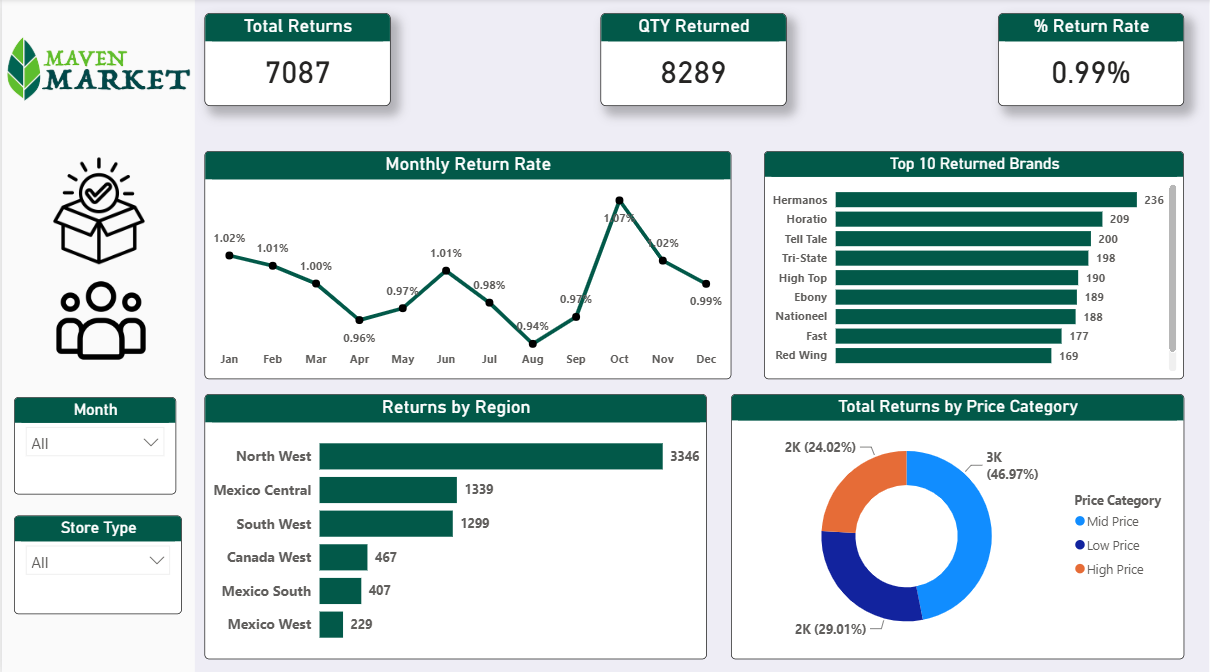

The dashboard page shown, as its layout file describes it:
{"tool":"powerbi","page":{"name":"Returns","canvas":[1280,720],"ordinal":4},"visuals":[{"type":"image","box":[0,0,203.3,150],"z":0},{"type":"card","title":"% Return Rate","fields":{"Values":["_measures.%Return Rate"]},"box":[1056.2,15.9,197.2,98.6],"z":1},{"type":"card","title":"QTY Returned","fields":{"Values":["_measures.Qty Returned"]},"box":[635.4,15.9,197.2,98.6],"z":2},{"type":"card","title":"Total Returns","fields":{"Values":["_measures.Total Returns"]},"box":[214.7,15.9,197.2,98.6],"z":4},{"type":"lineChart","title":"Monthly Total Revenue ","fields":{"Category":["DimCalendar.Month"],"Y":["_measures.%Return Rate"]},"box":[215,161.7,558.3,241.7],"z":5},{"type":"clusteredBarChart","title":"Returns by Region","fields":{"Y":["_measures.Total Returns"],"Category":["DimRegions.sales_region"]},"box":[214.7,419.9,532.9,281.5],"z":6},{"type":"clusteredBarChart","title":"Top 10 Returned Brands","fields":{"Category":["DimProducts.product_brand"],"Y":["_measures.Total Returns"]},"box":[808,162.2,445.4,241.8],"z":7},{"type":"donutChart","fields":{"Category":["DimProducts.Price Category"],"Y":["_measures.Total Returns"]},"box":[773,419.9,480.4,281.5],"z":8},{"type":"slicer","title":"Month","fields":{"Values":["DimCalendar.Month"]},"box":[12.7,423.1,171.8,278.4],"z":9},{"type":"image","box":[46.7,166.7,113.3,116.7],"z":10},{"type":"image","box":[55,295,98.3,95],"z":11}]}

Visuals, with their boxes in screenshot pixels (x1, y1, x2, y2), scaled from the page's 1280x720 canvas onto the 1210x672 screenshot:
image: BBox(0, 0, 192, 140)
"% Return Rate" card: BBox(998, 15, 1185, 107)
"QTY Returned" card: BBox(601, 15, 787, 107)
"Total Returns" card: BBox(203, 15, 389, 107)
"Monthly Total Revenue " lineChart: BBox(203, 151, 731, 377)
"Returns by Region" clusteredBarChart: BBox(203, 392, 707, 655)
"Top 10 Returned Brands" clusteredBarChart: BBox(764, 151, 1185, 377)
donutChart - DimProducts.Price Category x _measures.Total Returns: BBox(731, 392, 1185, 655)
"Month" slicer: BBox(12, 395, 174, 655)
image: BBox(44, 156, 151, 265)
image: BBox(52, 275, 145, 364)
